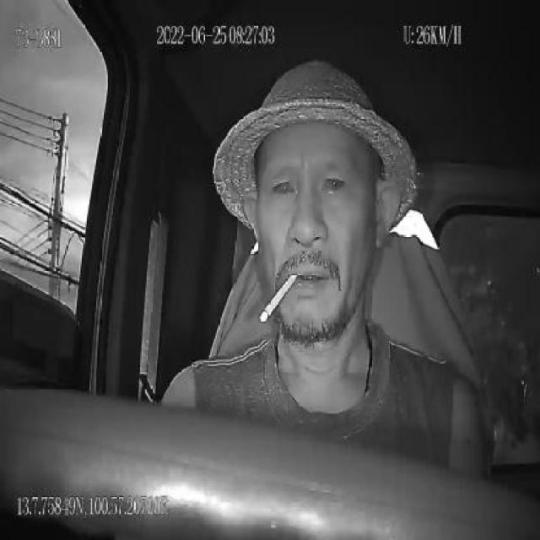smoking: (260, 272, 299, 324)
